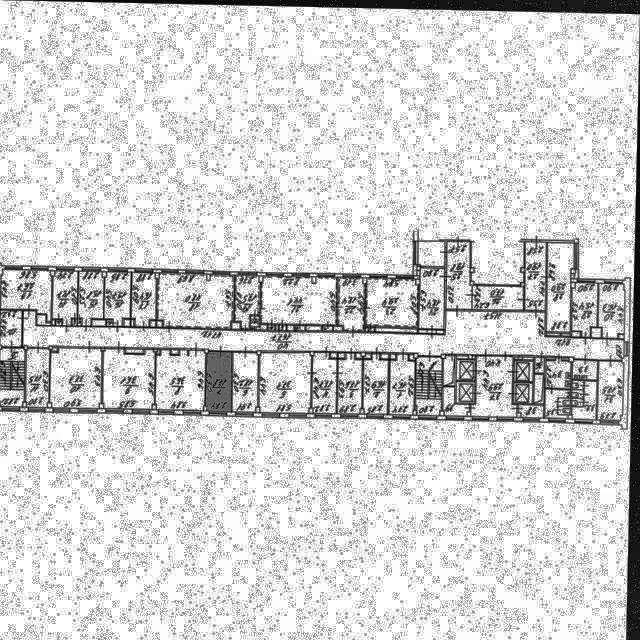room: (25, 304, 626, 357), (159, 272, 236, 328), (264, 274, 338, 323), (105, 348, 157, 409), (261, 351, 313, 412), (52, 347, 103, 408), (157, 349, 207, 410), (1, 269, 53, 321), (474, 354, 518, 414), (368, 276, 420, 324), (548, 240, 575, 329), (447, 239, 474, 307), (391, 352, 417, 413), (1, 348, 27, 407), (421, 266, 446, 327), (314, 351, 339, 412), (417, 355, 443, 413), (208, 350, 233, 410), (235, 351, 260, 411), (365, 352, 390, 412), (105, 271, 132, 326), (600, 359, 625, 418), (340, 351, 364, 412), (27, 349, 52, 407), (600, 280, 626, 335), (526, 240, 547, 308), (79, 271, 105, 325), (339, 276, 365, 328), (573, 280, 598, 334), (55, 271, 79, 325), (133, 272, 157, 326), (236, 274, 260, 327), (474, 283, 525, 307), (573, 378, 599, 417), (2, 311, 24, 347), (445, 385, 471, 414), (547, 387, 572, 416), (419, 239, 446, 264), (548, 358, 572, 386), (574, 357, 599, 377), (445, 354, 457, 383), (521, 402, 545, 415), (462, 382, 475, 399), (462, 360, 475, 377), (519, 360, 531, 378), (518, 383, 530, 399), (537, 355, 546, 370), (560, 404, 572, 412), (560, 395, 572, 403), (574, 387, 585, 395), (252, 315, 260, 326), (574, 396, 585, 403), (57, 320, 63, 325), (108, 320, 114, 325), (74, 319, 78, 325)
